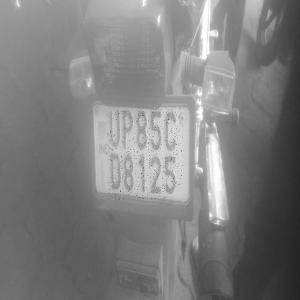Plate: (107, 108, 183, 200)
